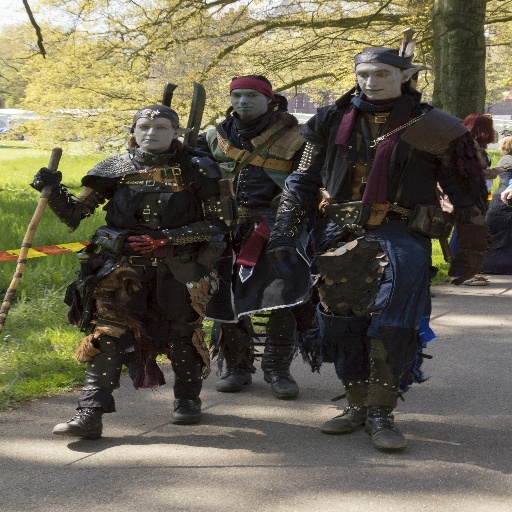hand: (266, 242, 304, 282), (447, 248, 484, 283), (125, 227, 168, 256), (26, 168, 61, 195), (491, 165, 511, 177), (497, 188, 511, 205)
